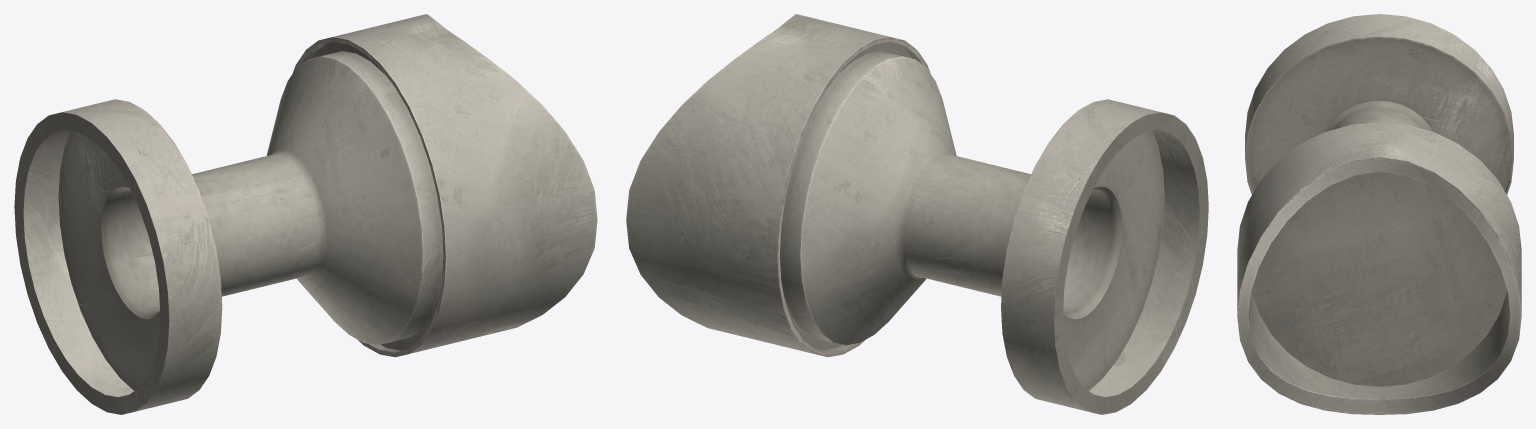
The model's file is guard_13_c_d.glb.
3 renders of one model, left to right at view 1: azimuth 30°, elevation 25°; view 2: azimuth 150°, elevation 25°; view 3: azimuth 270°, elevation 25°, orthographic. The views are drawn at different scales.
Parts seen in each view (by area): view 1: guard_13_c_d_lod0; view 2: guard_13_c_d_lod0; view 3: guard_13_c_d_lod0.
Boxes of the visible parts, x1,y1,x2,y2 form: guard_13_c_d_lod0: [14, 14, 597, 414]; guard_13_c_d_lod0: [626, 14, 1208, 414]; guard_13_c_d_lod0: [1237, 14, 1521, 414].
Size of what is drawn, in the model's own units: 0.0454 by 0.0304 by 0.0304.
1 material, 1 textured.
